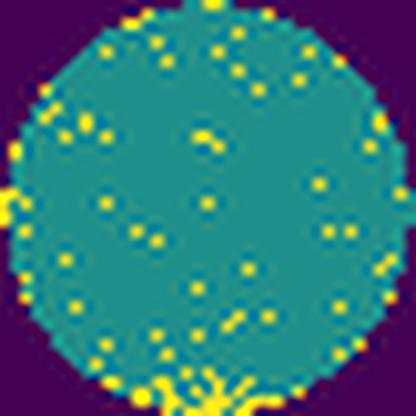Edge-Loc: (152, 361, 290, 416)
